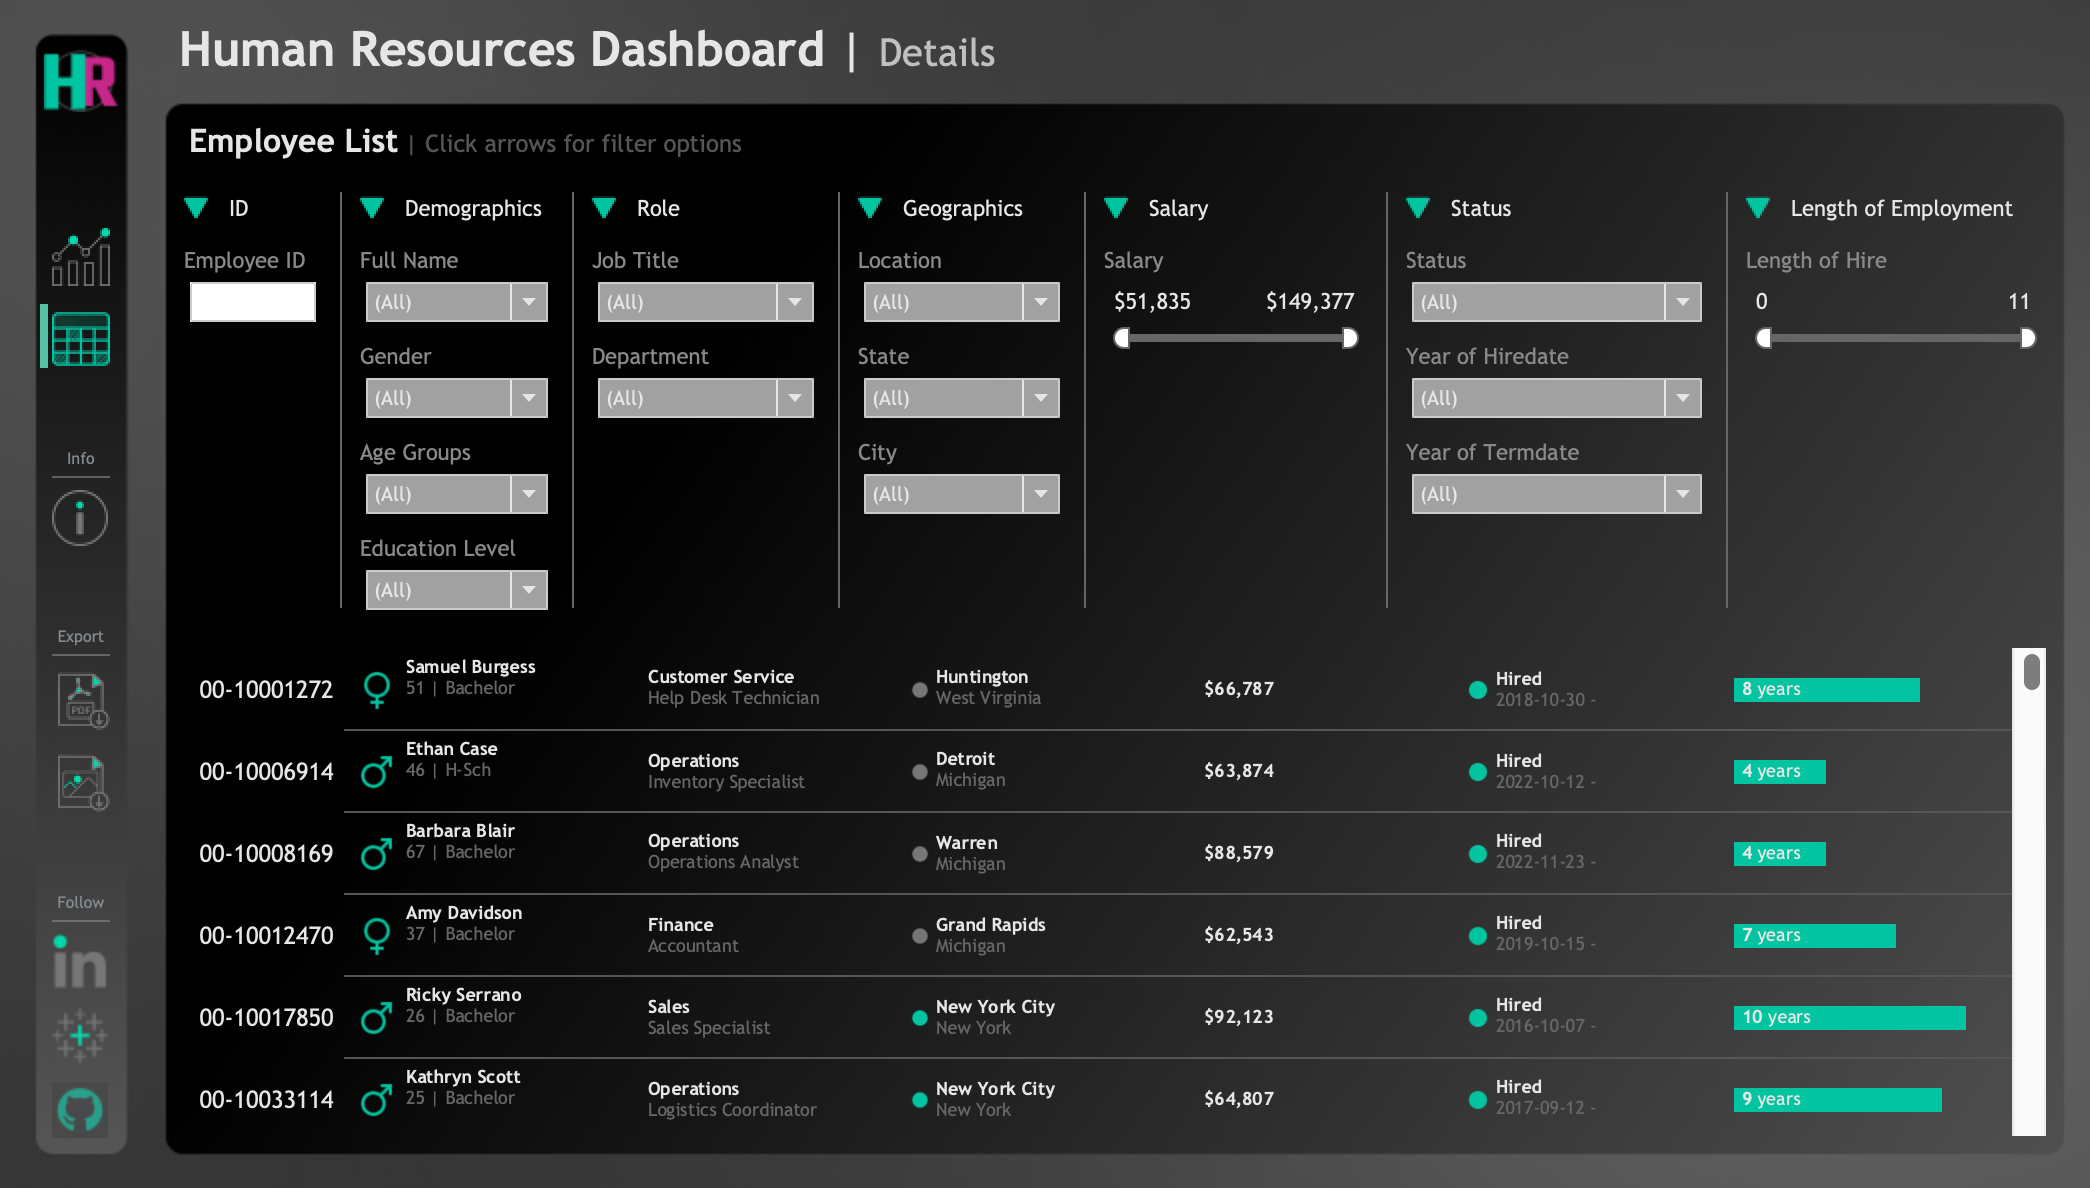

Layout of this report page (visuals, bound fields, positions):
{"tool":"tableau","page":{"name":"HR | Details","canvas":[1400,800],"ordinal":0},"visuals":[{"type":"image","param":"Image/Frame 1 (1).png","box":[0,0,1050,600]},{"type":"text","box":[85,0,506.5,55]},{"type":"blank","box":[591.5,0,442.5,55]},{"type":"image","param":"Image/Logo.png","box":[20,20,45,47]},{"type":"text","box":[90,60,939,31]},{"type":"blank","box":[28,75,29,40.2]},{"type":"dashboard-object","box":[90,91,20,32]},{"type":"text","box":[110,91,57,32]},{"type":"blank","box":[167,91,11,224]},{"type":"dashboard-object","box":[178,91,20,32]},{"type":"text","box":[198,91,85,32]},{"type":"blank","box":[283,91,11,224]},{"type":"dashboard-object","box":[294,91,20,32]},{"type":"text","box":[314,91,102,32]},{"type":"blank","box":[416,91,11,224]},{"type":"dashboard-object","box":[427,91,20,32]},{"type":"text","box":[446.9,91,92,32]},{"type":"blank","box":[539,91,11,224]},{"type":"dashboard-object","box":[549.9,91,20,32]},{"type":"text","box":[569.9,91,120,32]},{"type":"blank","box":[689.9,91,11,224]},{"type":"dashboard-object","box":[700.9,91,20,32]},{"type":"text","box":[720.9,91,139,32]},{"type":"blank","box":[859.9,91,11,224]},{"type":"dashboard-object","box":[870.9,91,20,32]},{"type":"text","box":[890.9,91,138.1,32]},{"type":"dashboard-object","box":[28,115.2,29,32]},{"type":"filter","title":"Detailed","param":"[federated.0lzq7kw1k4kwyu191dle50yk4jp9].[none:Employee_ID:nk]","box":[90,123,77,48]},{"type":"filter","title":"Detailed","param":"[federated.0lzq7kw1k4kwyu191dle50yk4jp9].[none:Calculation_6560759553964175362:n","box":[178,123,105,48]},{"type":"filter","title":"Detailed","param":"[federated.0lzq7kw1k4kwyu191dle50yk4jp9].[none:Job Title:nk]","box":[294,123,122,48]},{"type":"filter","title":"Detailed","param":"[federated.0lzq7kw1k4kwyu191dle50yk4jp9].[none:Calculation_5686427906797703173:n","box":[427,123,112,48]},{"type":"filter","title":"Detailed","param":"[federated.0lzq7kw1k4kwyu191dle50yk4jp9].[sum:Salary:qk]","box":[549.9,123,140,65]},{"type":"filter","title":"Detailed","param":"[federated.0lzq7kw1k4kwyu191dle50yk4jp9].[none:Calculation_6009701917912915973:n","box":[700.9,123,159,48]},{"type":"filter","title":"Detailed","param":"[federated.0lzq7kw1k4kwyu191dle50yk4jp9].[sum:Calculation_6560759553968570371:qk","box":[870.9,123,158.1,65]},{"type":"blank","box":[28,147.2,29,9]},{"type":"blank","box":[22,155,4,32]},{"type":"dashboard-object","box":[28,156.2,29,32]},{"type":"filter","title":"Detailed","param":"[federated.0lzq7kw1k4kwyu191dle50yk4jp9].[none:Gender:nk]","box":[178,171,105,48]},{"type":"filter","title":"Detailed","param":"[federated.0lzq7kw1k4kwyu191dle50yk4jp9].[none:Department:nk]","box":[294,171,122,48]},{"type":"filter","title":"Detailed","param":"[federated.0lzq7kw1k4kwyu191dle50yk4jp9].[none:State:nk]","box":[427,171,112,48]},{"type":"filter","title":"Detailed","param":"[federated.0lzq7kw1k4kwyu191dle50yk4jp9].[yr:Hiredate:ok]","box":[700.9,171,159,48]},{"type":"text","box":[65,177,985,223]},{"type":"blank","box":[28,188.2,29,40.2]},{"type":"filter","title":"Detailed","param":"[federated.0lzq7kw1k4kwyu191dle50yk4jp9].[none:Calculation_6009701917570248708:n","box":[178,219,105,48]},{"type":"filter","title":"Detailed","param":"[federated.0lzq7kw1k4kwyu191dle50yk4jp9].[none:City:nk]","box":[427,219,112,48]},{"type":"filter","title":"Detailed","param":"[federated.0lzq7kw1k4kwyu191dle50yk4jp9].[yr:Termdate:ok]","box":[700.9,219,159,48]},{"type":"text","box":[28,228.5,29,9]},{"type":"blank","box":[28,237.5,29,11]},{"type":"dashboard-object","box":[28,248.5,29,28]},{"type":"filter","title":"Detailed","param":"[federated.0lzq7kw1k4kwyu191dle50yk4jp9].[none:Education Level:nk]","box":[178,267,105,48]},{"type":"blank","box":[28,276.5,29,40.2]},{"type":"text","box":[28,316.7,29,9]},{"type":"worksheet","title":"Detailed","mark":"Shape","rows":["Employee_ID"],"cols":["Calculation_6560759553963765761","Calculation_6560759553963765761","Calculation_6560759553963765761","Calculation_6560759553963765761","Calculation_6560759553963765761","Calculation_6560759553968570371"],"box":[90,323,939,252]},{"type":"blank","box":[28,325.7,29,11]},{"type":"dashboard-object","box":[28,336.7,29,32]},{"type":"blank","box":[28,368.7,29,9]},{"type":"dashboard-object","box":[28,377.7,29,32]},{"type":"blank","box":[28,409.7,29,40.2]},{"type":"text","box":[28,450,29,9]},{"type":"blank","box":[28,459,29,11]},{"type":"image","param":"Image/contact-linkedin.png","box":[28,470,29,28]},{"type":"blank","box":[28,498,29,9]},{"type":"image","param":"Image/contact-public.png","box":[28,507,29,28]},{"type":"blank","box":[28,535,29,9]},{"type":"image","param":"Image/contact-github.png","box":[28,544,29,28]}]}

Visuals, with their boxes on the page's 1400x800 design canvas (x1, y1, x2, y2). These are canvas units, not pixel positions in the 2090x1188 screenshot, which may show the page scaled, cropped or inside an application window:
image: <bbox>0, 0, 1050, 600</bbox>
text: <bbox>85, 0, 592, 55</bbox>
blank: <bbox>592, 0, 1034, 55</bbox>
image: <bbox>20, 20, 65, 67</bbox>
text: <bbox>90, 60, 1029, 91</bbox>
blank: <bbox>28, 75, 57, 115</bbox>
dashboard-object: <bbox>90, 91, 110, 123</bbox>
text: <bbox>110, 91, 167, 123</bbox>
blank: <bbox>167, 91, 178, 315</bbox>
dashboard-object: <bbox>178, 91, 198, 123</bbox>
text: <bbox>198, 91, 283, 123</bbox>
blank: <bbox>283, 91, 294, 315</bbox>
dashboard-object: <bbox>294, 91, 314, 123</bbox>
text: <bbox>314, 91, 416, 123</bbox>
blank: <bbox>416, 91, 427, 315</bbox>
dashboard-object: <bbox>427, 91, 447, 123</bbox>
text: <bbox>447, 91, 539, 123</bbox>
blank: <bbox>539, 91, 550, 315</bbox>
dashboard-object: <bbox>550, 91, 570, 123</bbox>
text: <bbox>570, 91, 690, 123</bbox>
blank: <bbox>690, 91, 701, 315</bbox>
dashboard-object: <bbox>701, 91, 721, 123</bbox>
text: <bbox>721, 91, 860, 123</bbox>
blank: <bbox>860, 91, 871, 315</bbox>
dashboard-object: <bbox>871, 91, 891, 123</bbox>
text: <bbox>891, 91, 1029, 123</bbox>
dashboard-object: <bbox>28, 115, 57, 147</bbox>
"Detailed" filter: <bbox>90, 123, 167, 171</bbox>
"Detailed" filter: <bbox>178, 123, 283, 171</bbox>
"Detailed" filter: <bbox>294, 123, 416, 171</bbox>
"Detailed" filter: <bbox>427, 123, 539, 171</bbox>
"Detailed" filter: <bbox>550, 123, 690, 188</bbox>
"Detailed" filter: <bbox>701, 123, 860, 171</bbox>
"Detailed" filter: <bbox>871, 123, 1029, 188</bbox>
blank: <bbox>28, 147, 57, 156</bbox>
blank: <bbox>22, 155, 26, 187</bbox>
dashboard-object: <bbox>28, 156, 57, 188</bbox>
"Detailed" filter: <bbox>178, 171, 283, 219</bbox>
"Detailed" filter: <bbox>294, 171, 416, 219</bbox>
"Detailed" filter: <bbox>427, 171, 539, 219</bbox>
"Detailed" filter: <bbox>701, 171, 860, 219</bbox>
text: <bbox>65, 177, 1050, 400</bbox>
blank: <bbox>28, 188, 57, 228</bbox>
"Detailed" filter: <bbox>178, 219, 283, 267</bbox>
"Detailed" filter: <bbox>427, 219, 539, 267</bbox>
"Detailed" filter: <bbox>701, 219, 860, 267</bbox>
text: <bbox>28, 228, 57, 238</bbox>
blank: <bbox>28, 238, 57, 248</bbox>
dashboard-object: <bbox>28, 248, 57, 276</bbox>
"Detailed" filter: <bbox>178, 267, 283, 315</bbox>
blank: <bbox>28, 276, 57, 317</bbox>
text: <bbox>28, 317, 57, 326</bbox>
"Detailed" worksheet (Shape marks): <bbox>90, 323, 1029, 575</bbox>
blank: <bbox>28, 326, 57, 337</bbox>
dashboard-object: <bbox>28, 337, 57, 369</bbox>
blank: <bbox>28, 369, 57, 378</bbox>
dashboard-object: <bbox>28, 378, 57, 410</bbox>
blank: <bbox>28, 410, 57, 450</bbox>
text: <bbox>28, 450, 57, 459</bbox>
blank: <bbox>28, 459, 57, 470</bbox>
image: <bbox>28, 470, 57, 498</bbox>
blank: <bbox>28, 498, 57, 507</bbox>
image: <bbox>28, 507, 57, 535</bbox>
blank: <bbox>28, 535, 57, 544</bbox>
image: <bbox>28, 544, 57, 572</bbox>
